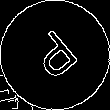P_SE: (25, 24, 85, 86)
